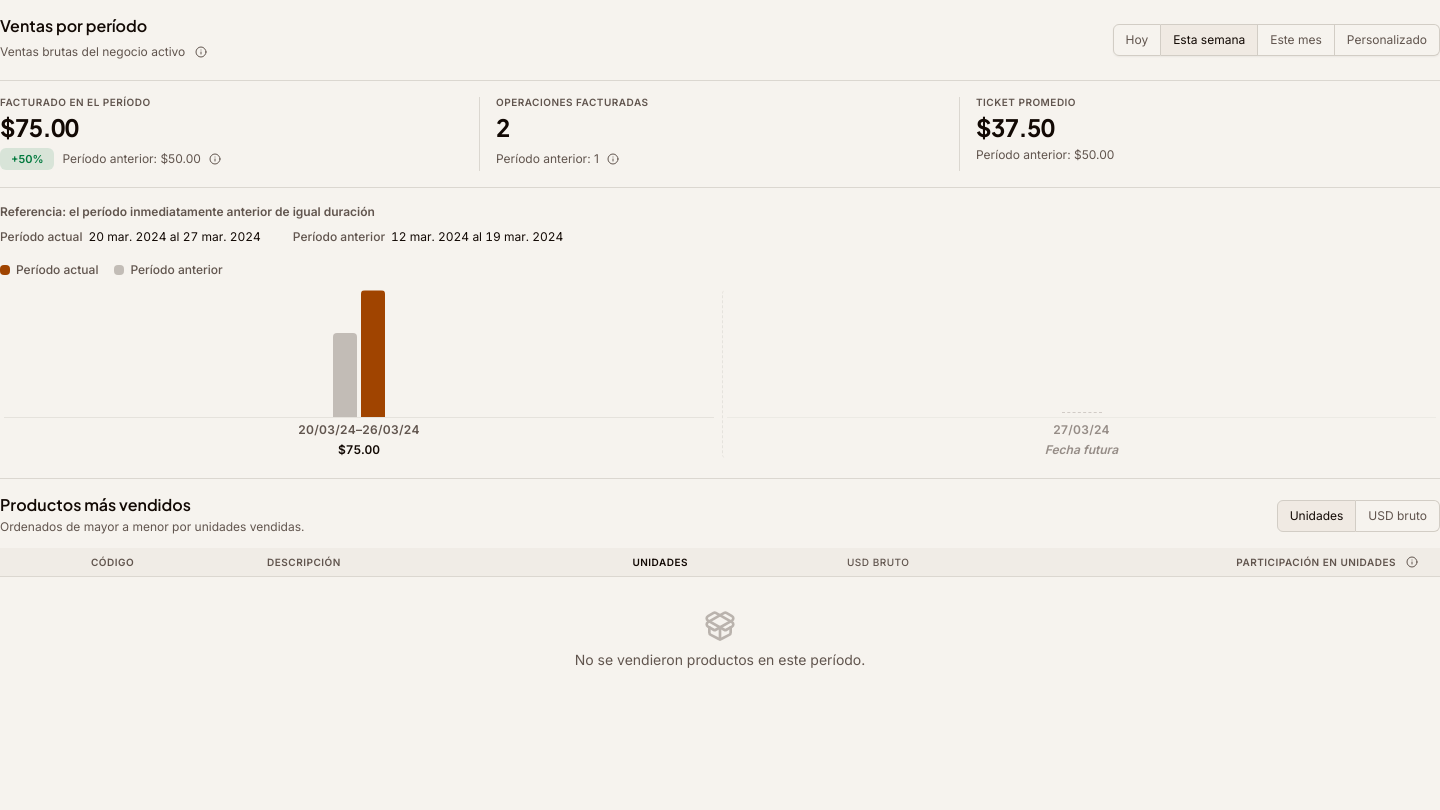
Test: Ventas por período › mantiene el filtro y los resultados aplicados mientras se construye un rango personalizado
Click the radio button labelled "Personalizado" at (1387, 40), box left=1335, top=24, right=1439, bottom=56
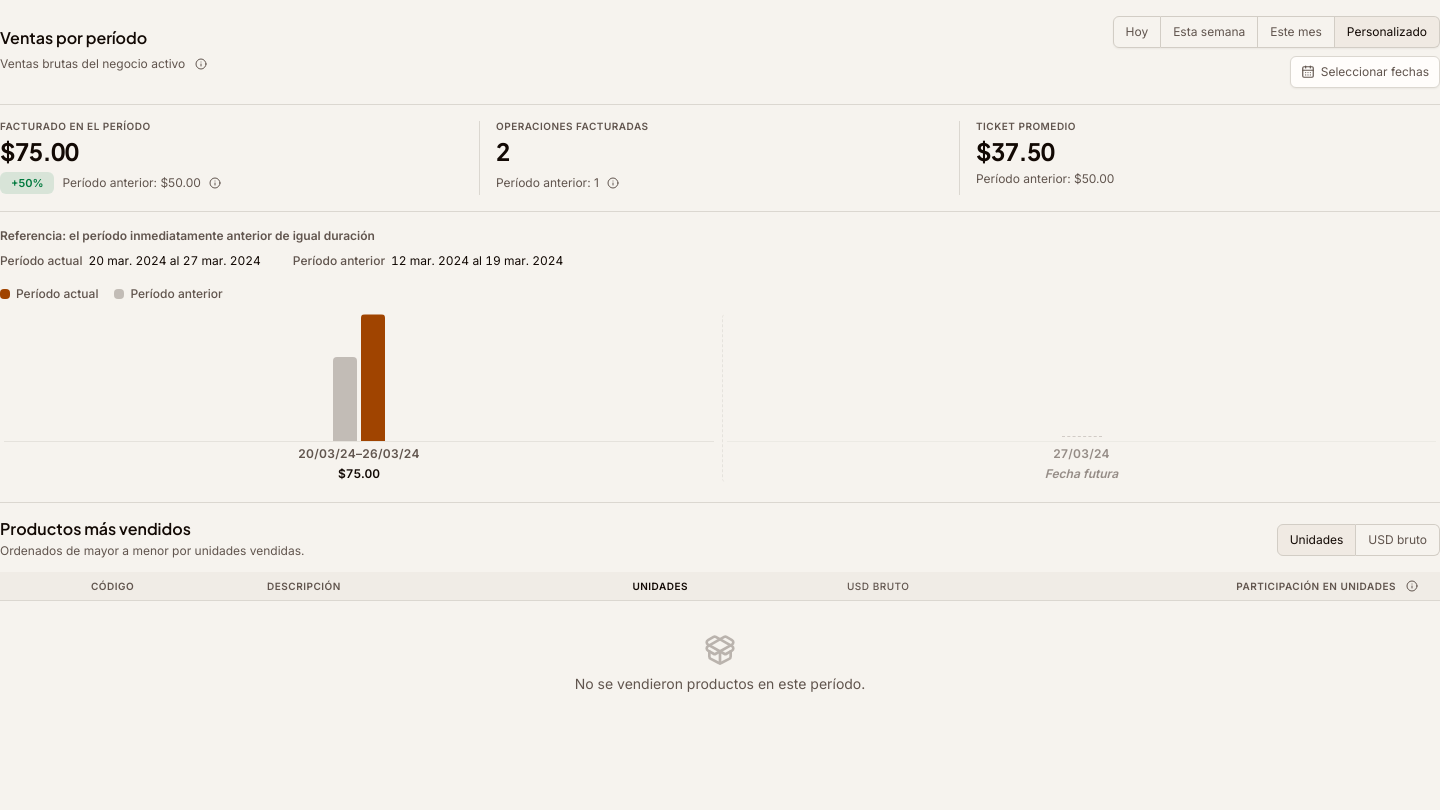
Expected: the text "Período personalizado" is not shown
Expected: the button "Seleccionar fechas" is shown
Click the button "Seleccionar fechas" at (1365, 72), box left=1290, top=56, right=1439, bottom=88
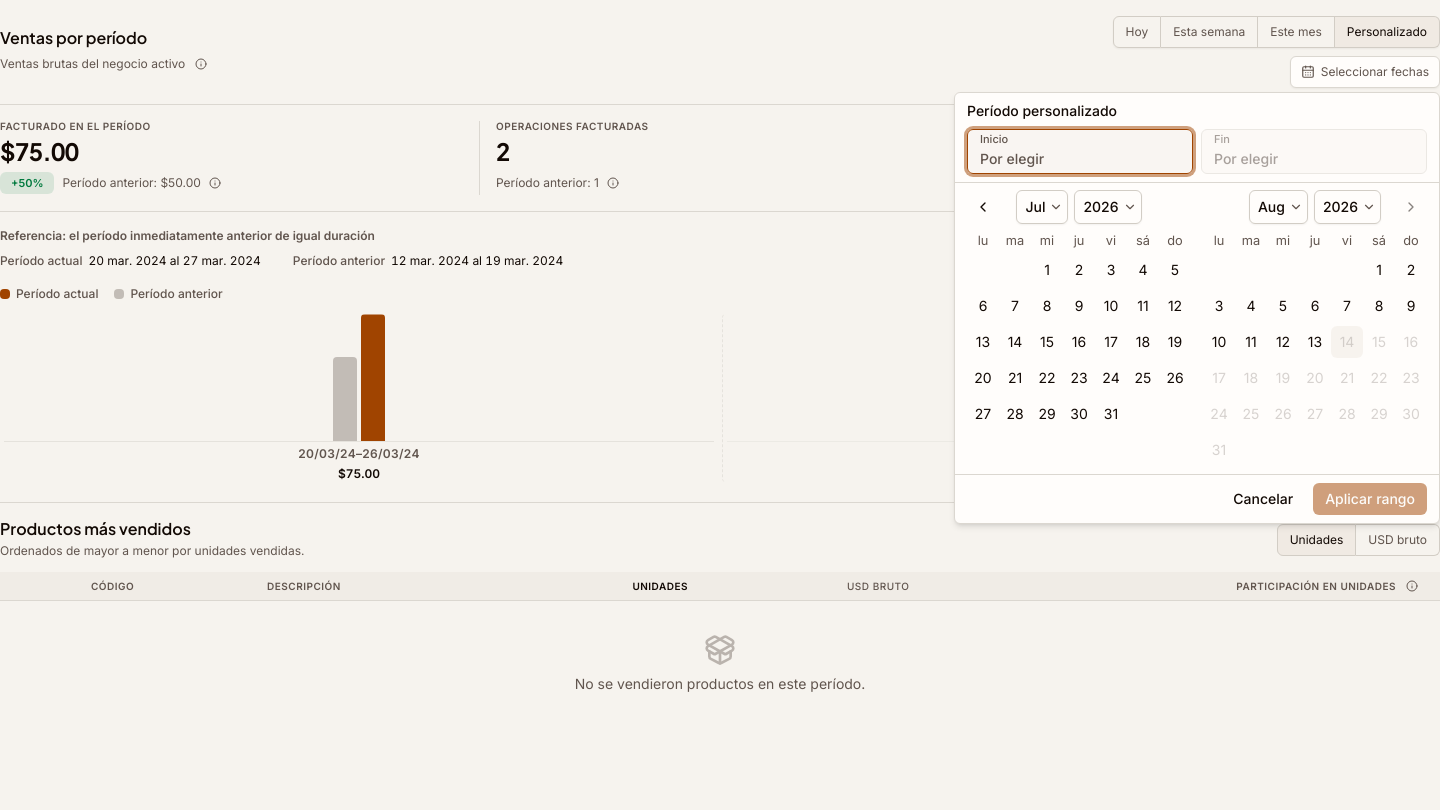
Expected: the text "Facturado en el período" is shown, left=0, top=120, right=151, bottom=132
Expected: the heading "Período personalizado" is shown, left=967, top=102, right=1117, bottom=119
